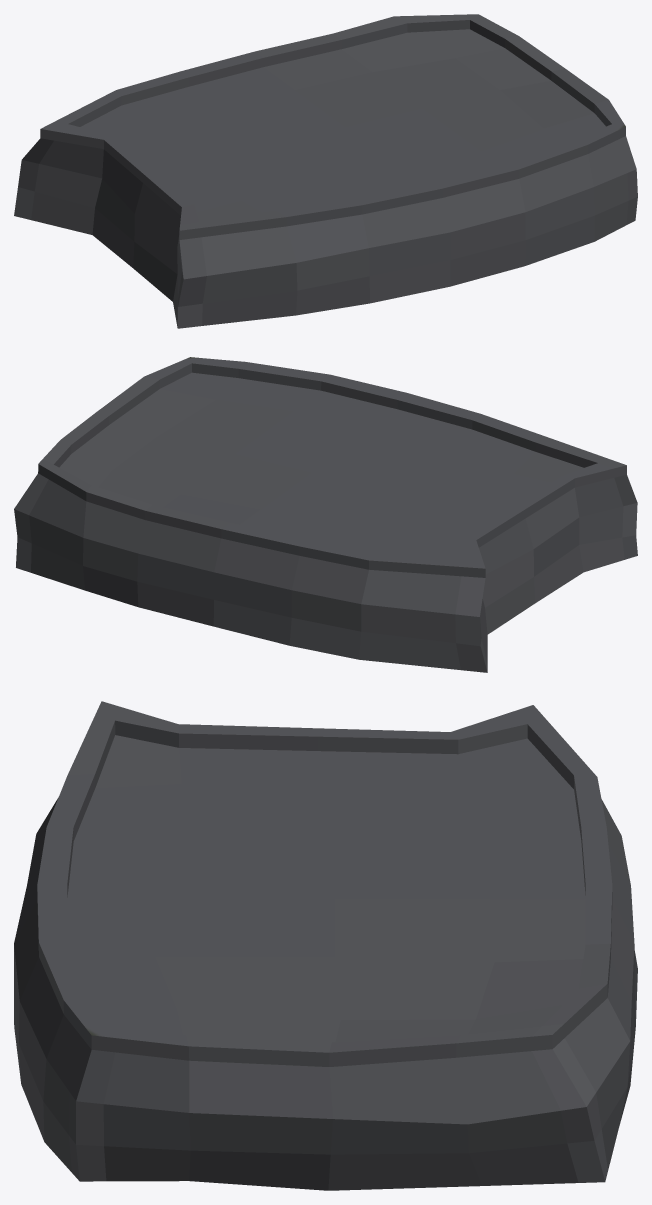
The model's file is Slab5.glb.
3 views of the same model, one above another, from view 1: azimuth 30°, elevation 25°; view 2: azimuth 150°, elevation 25°; view 3: azimuth 270°, elevation 25° (orthographic). The views are drawn at different scales.
Visible parts, largest first — view 1: Slab5; view 2: Slab5; view 3: Slab5.
Boxes of the visible parts, x1,y1,x2,y2 form: Slab5: (14,14,637,328); Slab5: (14,357,637,672); Slab5: (14,701,637,1190).
Bounding box in the file's own units: 2.79 × 0.5497 × 2.03.
Materials: 1 (1 with a texture image).
